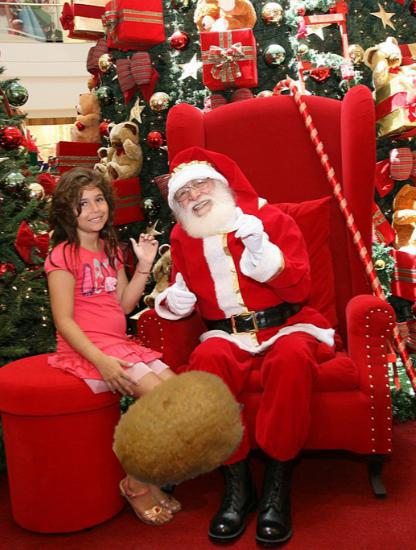Kiwi: (112, 363, 249, 500)
